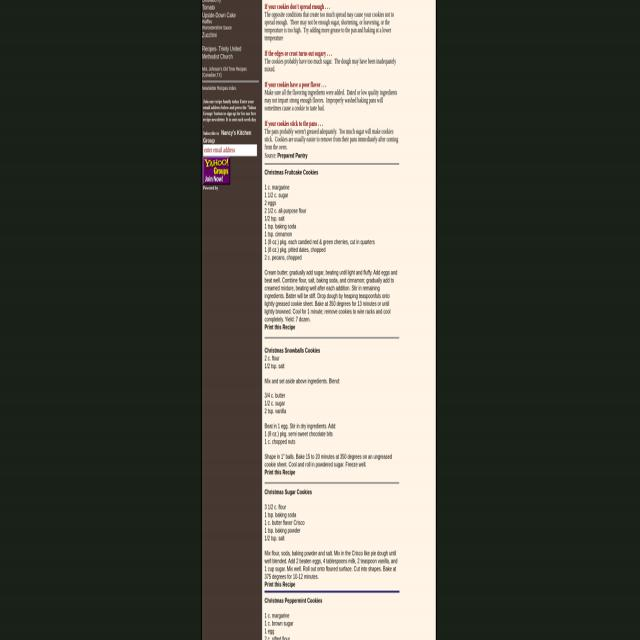button: (203, 156, 231, 184)
field: (203, 145, 257, 156)
